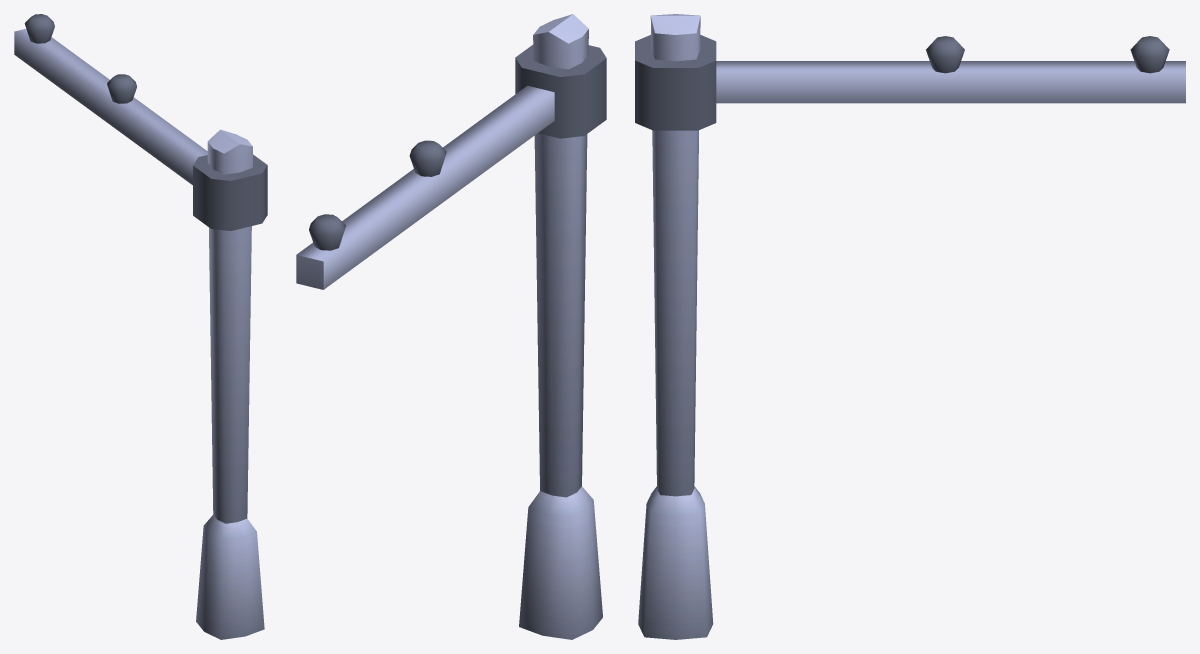
File: electricity-side-single.glb
3 views of the same model, side by side, from view 1: azimuth 30°, elevation 25°; view 2: azimuth 150°, elevation 25°; view 3: azimuth 270°, elevation 25° (orthographic). The views are drawn at different scales.
Parts seen in each view (by area): view 1: electricity-side-single; view 2: electricity-side-single; view 3: electricity-side-single.
Boxes of the visible parts, <box> form: electricity-side-single: <box>14,14,267,639</box>; electricity-side-single: <box>296,14,606,639</box>; electricity-side-single: <box>635,14,1185,639</box>.
Size of the model in its own units: 0.0634 by 0.525 by 0.4306.
1 material, 1 textured.
